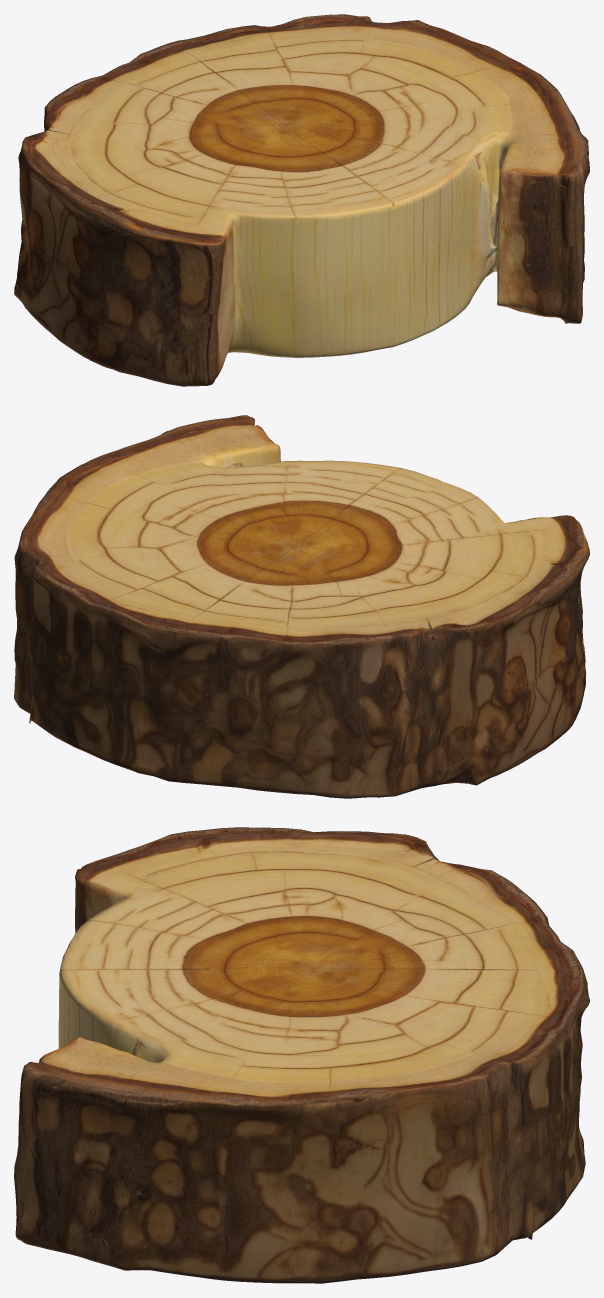
Rendered from tree_growth_rings.glb.
3 renders of one model, top to bottom at view 1: azimuth 30°, elevation 25°; view 2: azimuth 150°, elevation 25°; view 3: azimuth 270°, elevation 25°, orthographic. The views are drawn at different scales.
Visible parts, largest first — view 1: Object_4; view 2: Object_4; view 3: Object_4.
Boxes of the visible parts, x1=… form: Object_4: x1=14, y1=14, x2=589, y2=386; Object_4: x1=14, y1=415, x2=589, y2=798; Object_4: x1=14, y1=827, x2=589, y2=1283.
Bounding box in the file's own units: 1.98 × 0.622 × 1.74.
1 material, 1 textured.
